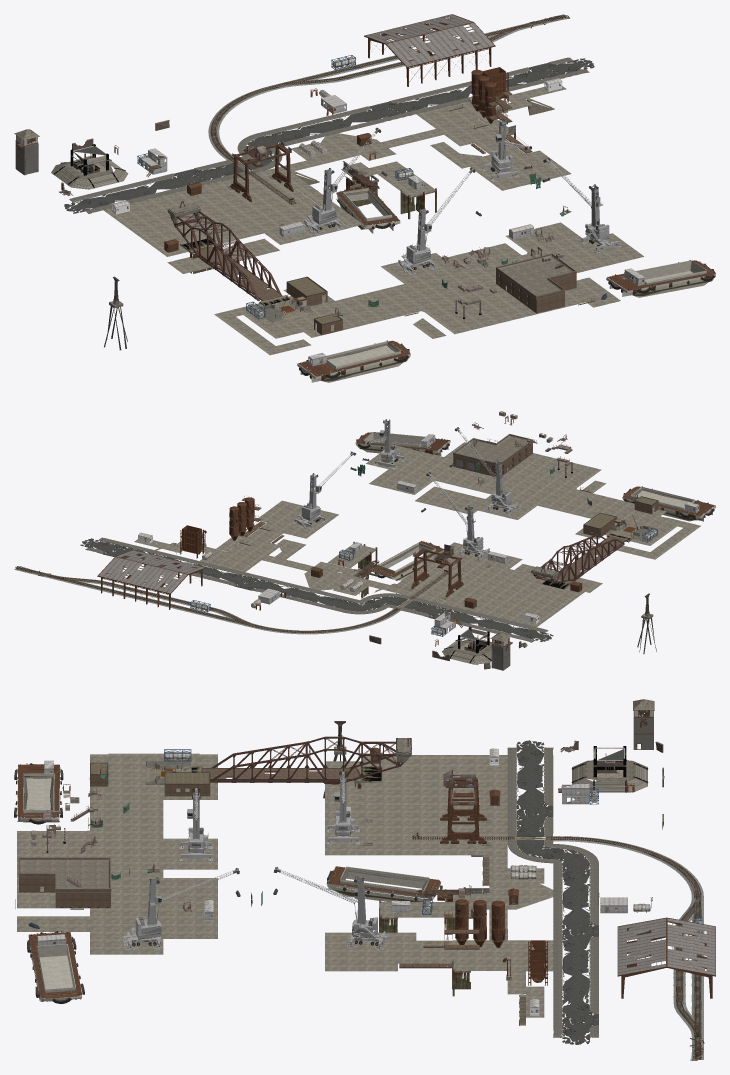
The model's file is harbor_1-mid.glb.
3 views of the same model, one above another, from view 1: azimuth 30°, elevation 25°; view 2: azimuth 150°, elevation 25°; view 3: azimuth 270°, elevation 25° (orthographic). The views are drawn at different scales.
Parts seen in each view (by area): view 1: checkpoint_single_harbor_LOD0, barge_base_3600_LOD0, road_9x15_LOD0, swing_bridge_ramp_A_LOD0, warehouse_large_core_LOD0, crane_base_a_LOD0, road_9x15_railway_LOD0, industrial_storage_tank_a_LOD0, outbuilding_1st_15x9_LOD0, crane_tower_a_LOD0, portacabin_building_300_600_b_LOD0, office_bld_a_ext_LOD0 (+10 smaller); view 2: checkpoint_single_harbor_LOD0, barge_base_3600_LOD0, road_9x15_LOD0, road_9x15_railway_LOD0, swing_bridge_ramp_A_LOD0, industrial_storage_tank_a_LOD0, warehouse_large_core_LOD0, crane_base_a_LOD0, outbuilding_1st_15x9_LOD0, portacabin_building_300_600_b_LOD0, crane_tower_a_LOD0, office_bld_a_ext_LOD0 (+8 smaller); view 3: checkpoint_single_harbor_LOD0, barge_base_3600_LOD0, road_9x15_LOD0, swing_bridge_ramp_A_LOD0, warehouse_large_core_LOD0, road_9x15_railway_LOD0, crane_base_a_LOD0, outbuilding_1st_15x9_LOD0, industrial_storage_tank_a_LOD0, crane_tower_a_LOD0, office_bld_a_ext_LOD0, portacabin_building_300_600_b_LOD0 (+10 smaller).
Boxes of the visible parts, x1,y1,x2,y2 form: checkpoint_single_harbor_LOD0: [51, 57, 643, 355]; barge_base_3600_LOD0: [18, 14, 715, 382]; road_9x15_LOD0: [64, 58, 594, 213]; swing_bridge_ramp_A_LOD0: [170, 98, 554, 305]; warehouse_large_core_LOD0: [365, 14, 494, 66]; crane_base_a_LOD0: [279, 119, 621, 312]; road_9x15_railway_LOD0: [208, 14, 569, 225]; industrial_storage_tank_a_LOD0: [14, 17, 576, 325]; outbuilding_1st_15x9_LOD0: [286, 254, 576, 335]; crane_tower_a_LOD0: [312, 120, 609, 263]; portacabin_building_300_600_b_LOD0: [112, 78, 645, 366]; office_bld_a_ext_LOD0: [168, 203, 573, 295]; checkpoint_single_harbor_LOD0: [83, 442, 700, 664]; barge_base_3600_LOD0: [97, 432, 715, 650]; road_9x15_LOD0: [80, 538, 553, 641]; road_9x15_railway_LOD0: [14, 558, 489, 634]; swing_bridge_ramp_A_LOD0: [155, 532, 632, 598]; industrial_storage_tank_a_LOD0: [97, 434, 654, 670]; warehouse_large_core_LOD0: [98, 550, 204, 593]; crane_base_a_LOD0: [292, 419, 636, 561]; outbuilding_1st_15x9_LOD0: [453, 434, 658, 537]; portacabin_building_300_600_b_LOD0: [138, 434, 699, 633]; crane_tower_a_LOD0: [302, 419, 511, 550]; office_bld_a_ext_LOD0: [455, 435, 558, 581]; checkpoint_single_harbor_LOD0: [17, 741, 647, 1044]; barge_base_3600_LOD0: [17, 714, 715, 1001]; road_9x15_LOD0: [516, 740, 624, 1044]; swing_bridge_ramp_A_LOD0: [191, 736, 525, 1025]; warehouse_large_core_LOD0: [618, 918, 715, 975]; road_9x15_railway_LOD0: [368, 820, 704, 1060]; crane_base_a_LOD0: [123, 771, 389, 950]; outbuilding_1st_15x9_LOD0: [18, 763, 210, 907]; industrial_storage_tank_a_LOD0: [18, 699, 715, 998]; crane_tower_a_LOD0: [135, 771, 377, 938]; office_bld_a_ext_LOD0: [20, 738, 411, 888]; portacabin_building_300_600_b_LOD0: [37, 748, 627, 1012].
Size of the model in its own units: 268 by 62.39 by 231.
Materials: 77 (77 with a texture image).
